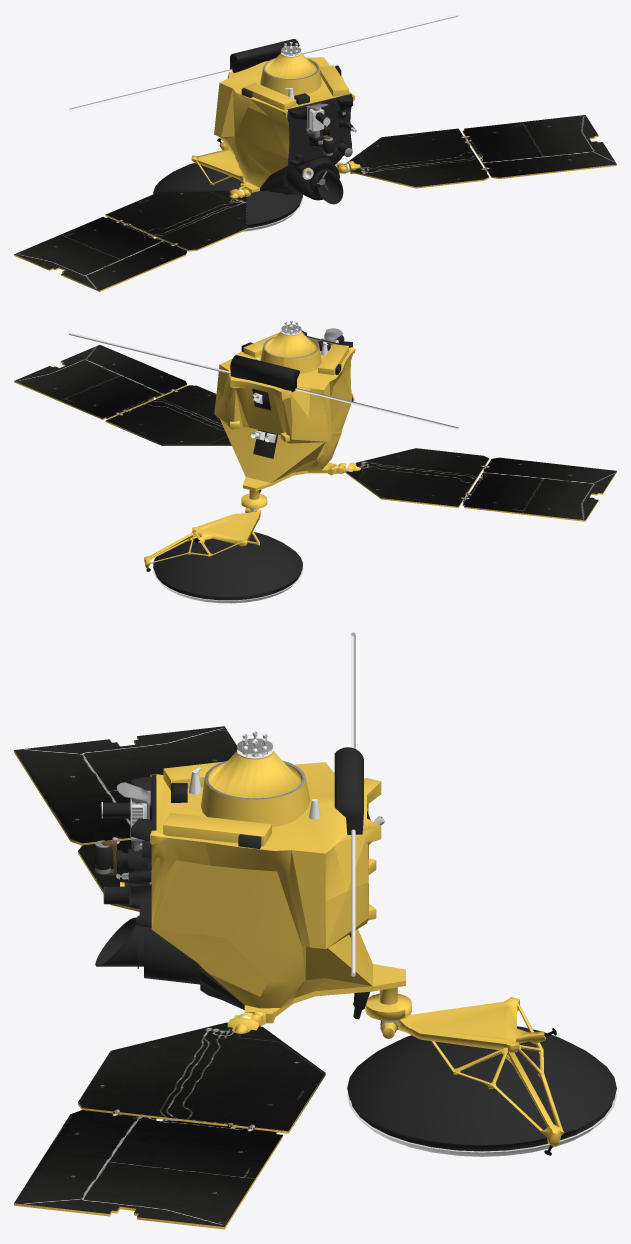
The model's file is mro.glb.
3 views of the same model, one above another, from view 1: azimuth 30°, elevation 25°; view 2: azimuth 150°, elevation 25°; view 3: azimuth 270°, elevation 25° (orthographic). The views are drawn at different scales.
Visible parts, largest first — view 1: tex_01, tex_02, BUS_foil_gold, black_krinkle, foil_silver; view 2: BUS_foil_gold, tex_01, tex_02, black_krinkle, foil_silver, foil_silver_dish; view 3: BUS_foil_gold, tex_01, black_krinkle, tex_02, foil_silver, foil_silver_dish.
Boxes of the visible parts, x1,y1,x2,y2 form: tex_01: (14,45,616,291); tex_02: (106,128,488,249); BUS_foil_gold: (191,52,360,198); black_krinkle: (153,39,353,228); foil_silver: (69,14,458,193); BUS_foil_gold: (144,331,360,568); tex_01: (14,324,616,571); tex_02: (106,385,488,506); black_krinkle: (153,330,352,600); foil_silver: (69,320,458,472); foil_silver_dish: (153,567,302,603); BUS_foil_gold: (120,748,564,1146); tex_01: (14,726,556,1229); black_krinkle: (93,747,616,1151); tex_02: (78,840,325,1131); foil_silver: (188,632,385,1018); foil_silver_dish: (347,1092,616,1156).
Size of what is drawn, in the model's own units: 13.18 by 4.88 by 6.71.
Materials: 10 (3 with a texture image).
